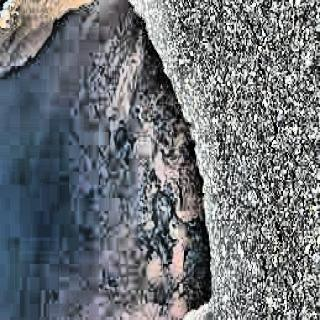pothole: (0, 0, 225, 320)
